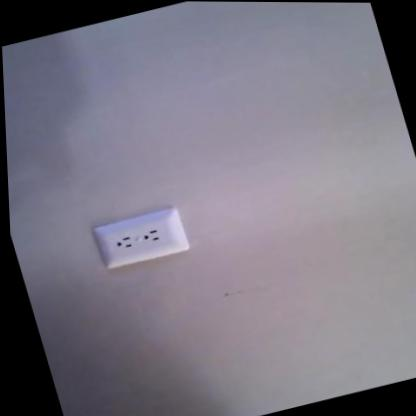OUTLET: (91, 204, 191, 271)
